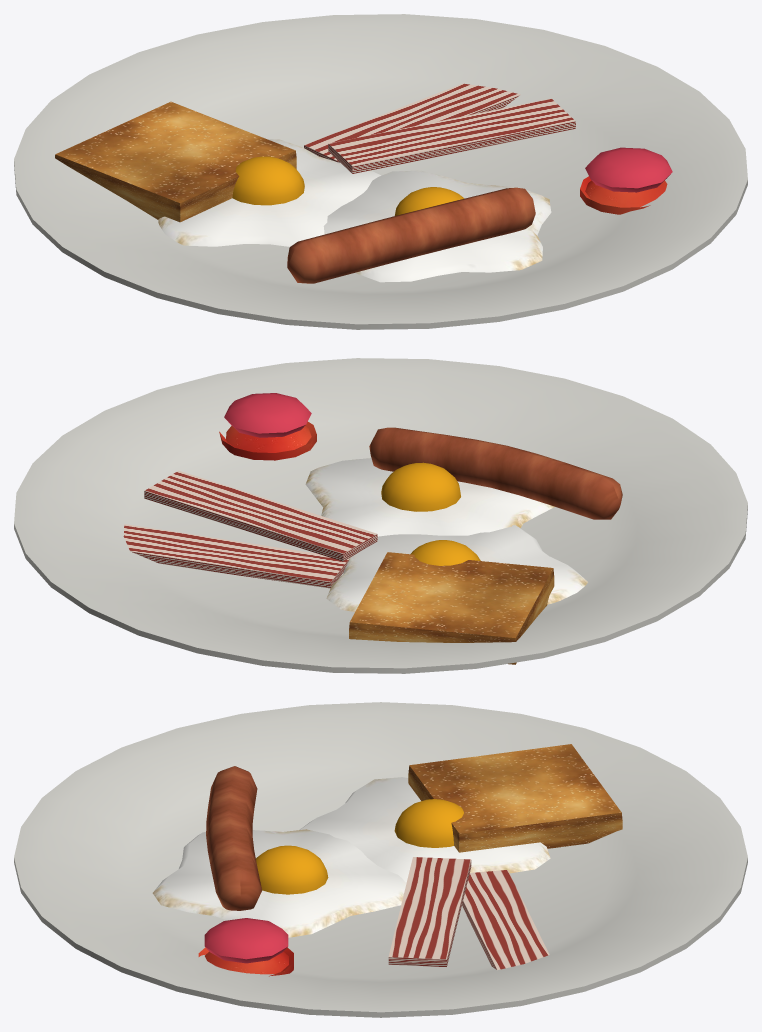
The model's file is meal_fried_egg_breakfast.glb.
3 renders of one model, top to bottom at view 1: azimuth 30°, elevation 25°; view 2: azimuth 150°, elevation 25°; view 3: azimuth 270°, elevation 25°, orthographic.
Parts seen in each view (by area): view 1: meal_fried_egg_breakfast; view 2: meal_fried_egg_breakfast; view 3: meal_fried_egg_breakfast.
Part boxes in pixels (x1,y1,x2,y2): meal_fried_egg_breakfast: (14, 14, 747, 329); meal_fried_egg_breakfast: (14, 358, 747, 673); meal_fried_egg_breakfast: (14, 702, 747, 1017).
Size of the model in its own units: 0.3 by 0.0295 by 0.3.
Materials: 8 (5 with a texture image).
